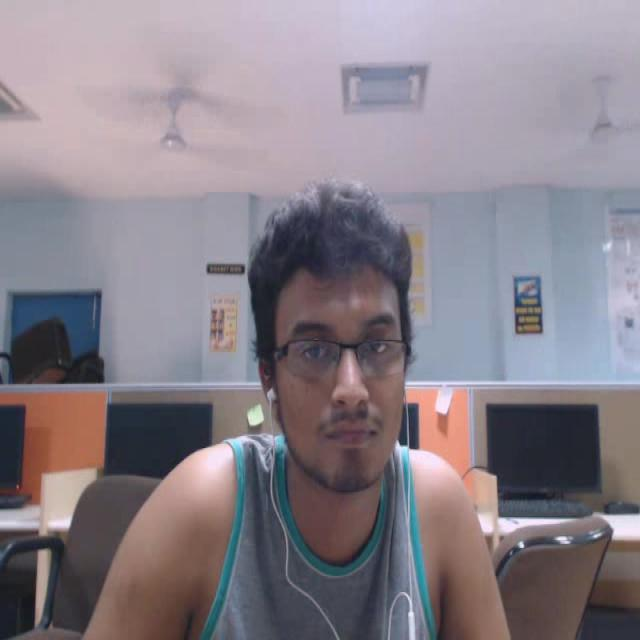Engaged: (244, 166, 445, 561)
